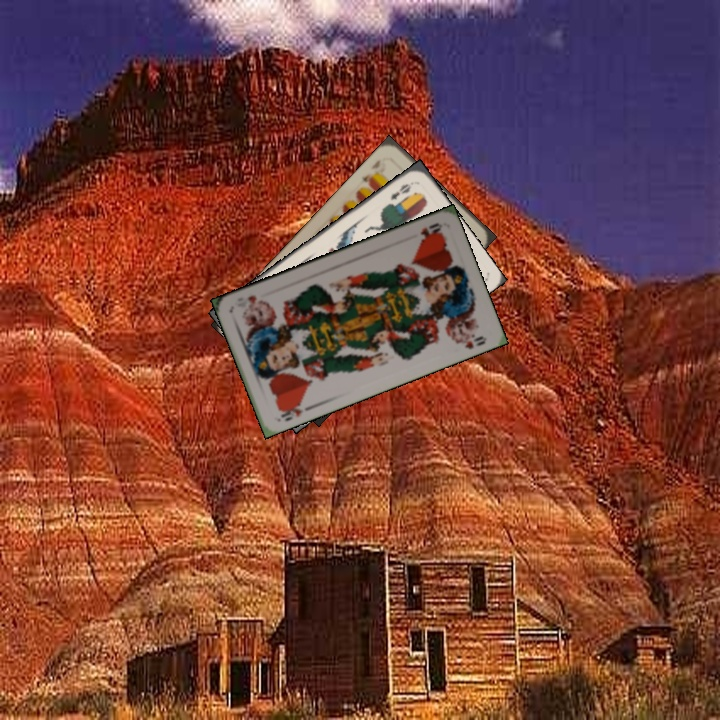E10: (357, 155, 383, 188)
EO: (386, 180, 414, 203)
HO: (275, 398, 306, 424), (416, 219, 445, 242)
